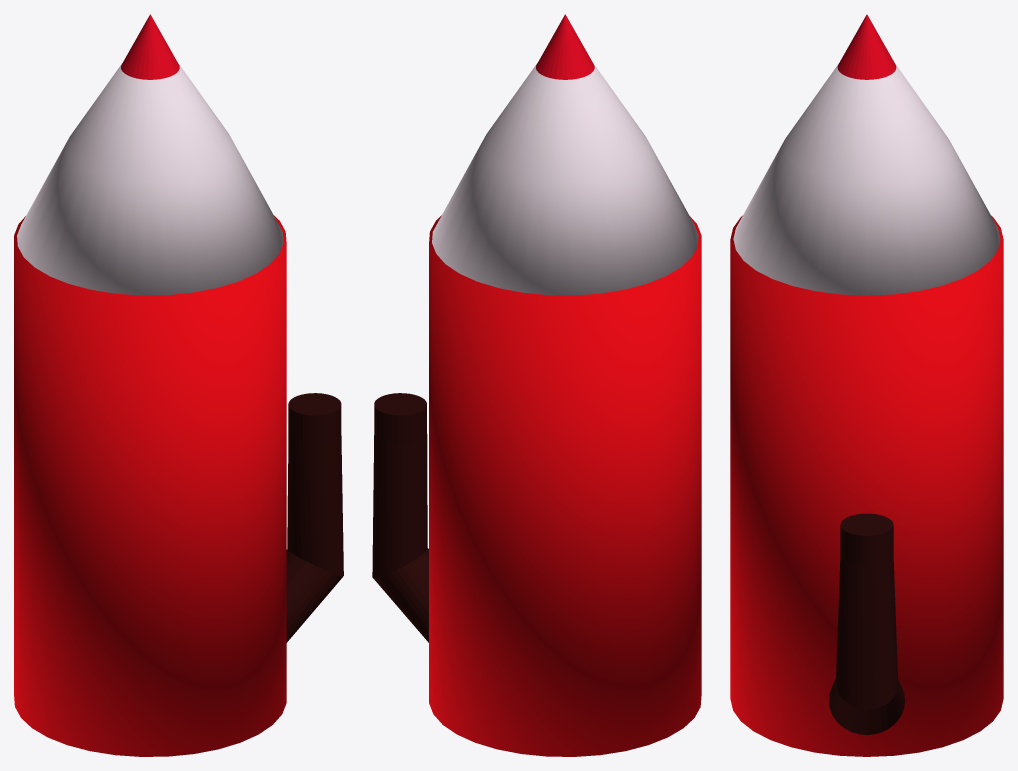
Rendered from pencilCorrect.fbx.
3 renders of one model, left to right at view 1: azimuth 30°, elevation 25°; view 2: azimuth 150°, elevation 25°; view 3: azimuth 270°, elevation 25°, orthographic.
Visible parts, largest first — view 1: Cylinder.002; view 2: Cylinder.002; view 3: Cylinder.002.
Boxes of the visible parts, <box> form: Cylinder.002: <box>14,14,343,756</box>; Cylinder.002: <box>372,14,701,756</box>; Cylinder.002: <box>730,14,1003,756</box>.
Bounding box in the file's own units: 101 × 216 × 77.89.
